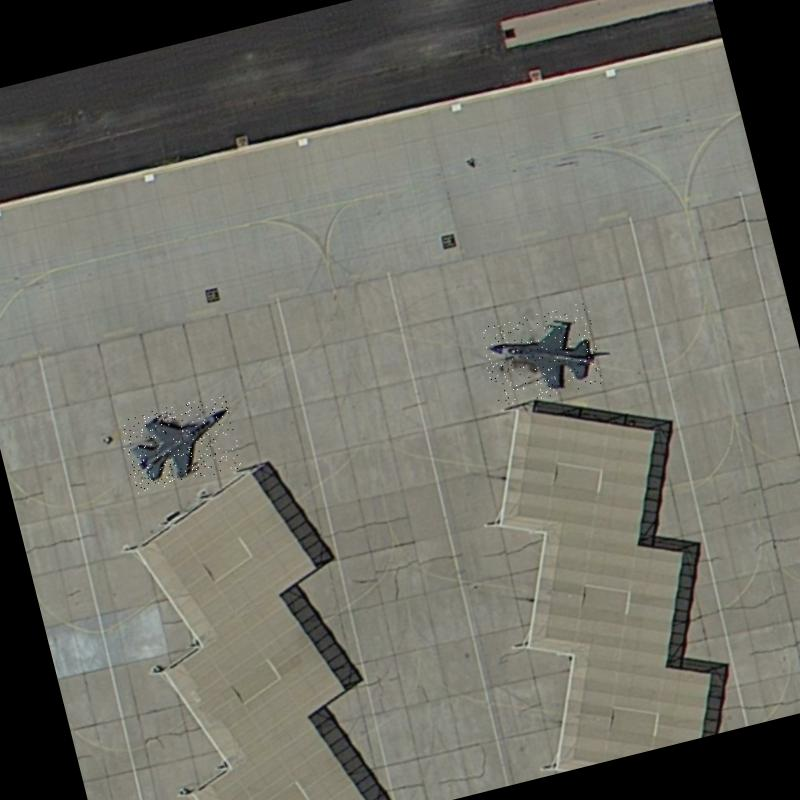A5: (477, 301, 607, 409), (116, 392, 244, 494)
